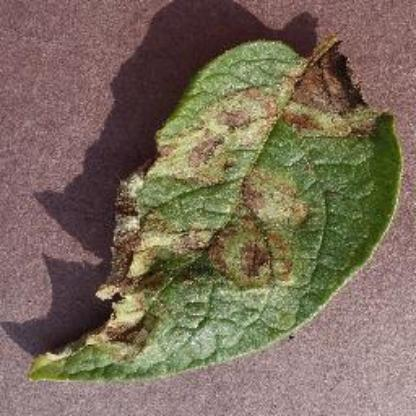Late-Blight: (43, 17, 402, 374)
